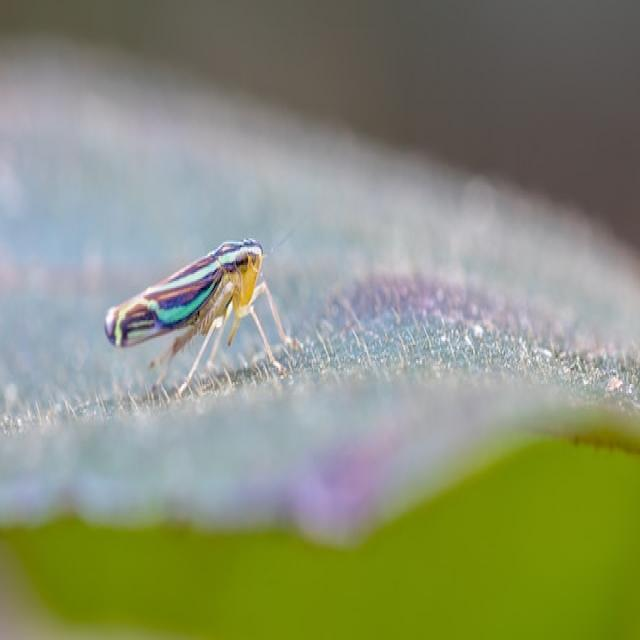Yechan: (97, 225, 295, 420)
